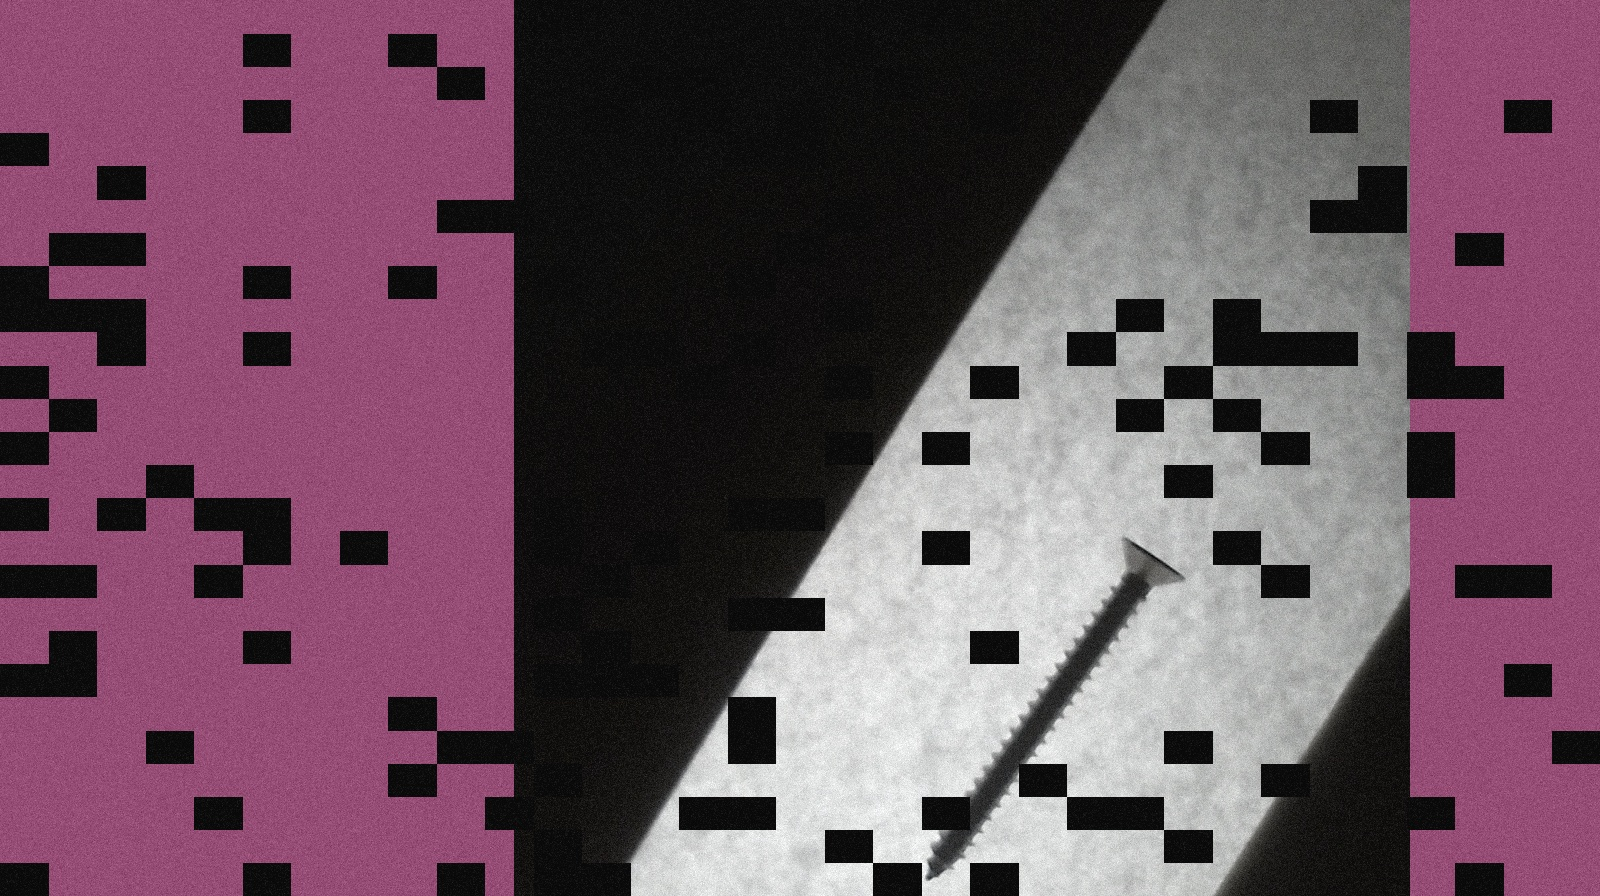S002: (915, 522, 1203, 895)
